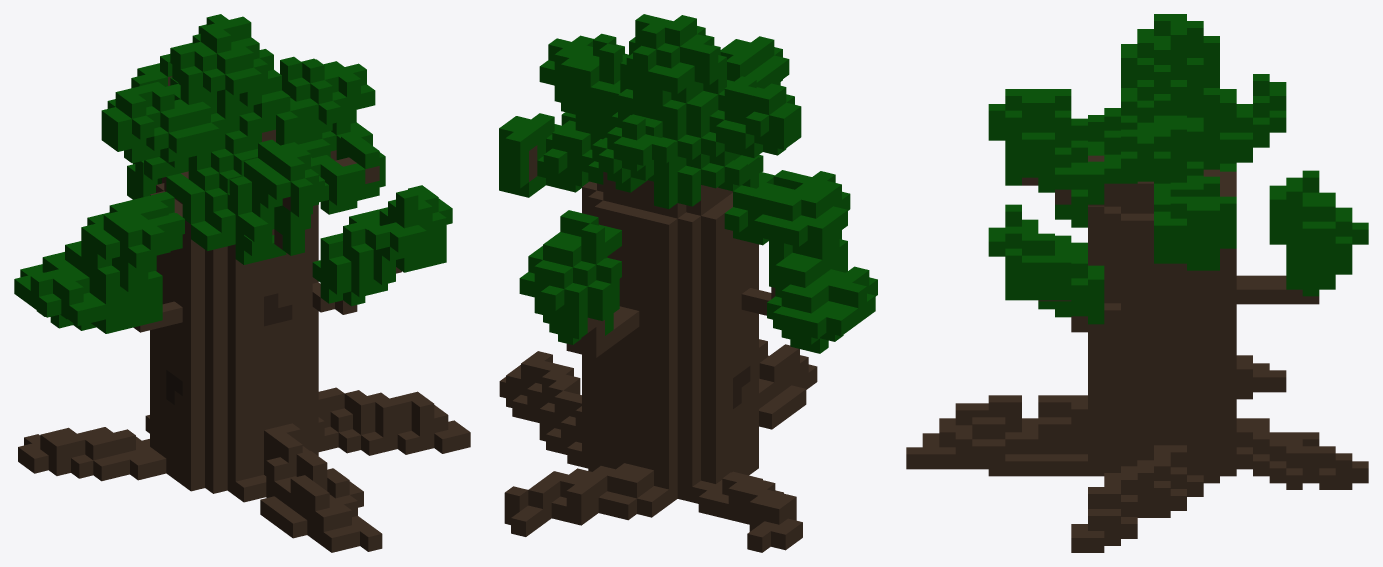
Rendered from Oak Tree.obj.
3 views of the same model, side by side, from view 1: azimuth 30°, elevation 25°; view 2: azimuth 150°, elevation 25°; view 3: azimuth 270°, elevation 25° (orthographic). The views are drawn at different scales.
Visible parts, largest first — view 1: Oak Tree; view 2: Oak Tree; view 3: Oak Tree.
Boxes of the visible parts, bbox=[...] form: Oak Tree: bbox=[14, 14, 470, 552]; Oak Tree: bbox=[499, 14, 877, 552]; Oak Tree: bbox=[906, 14, 1368, 552].
Bounding box in the file's own units: 27 × 29 × 28.
Materials: 1 (1 with a texture image).
